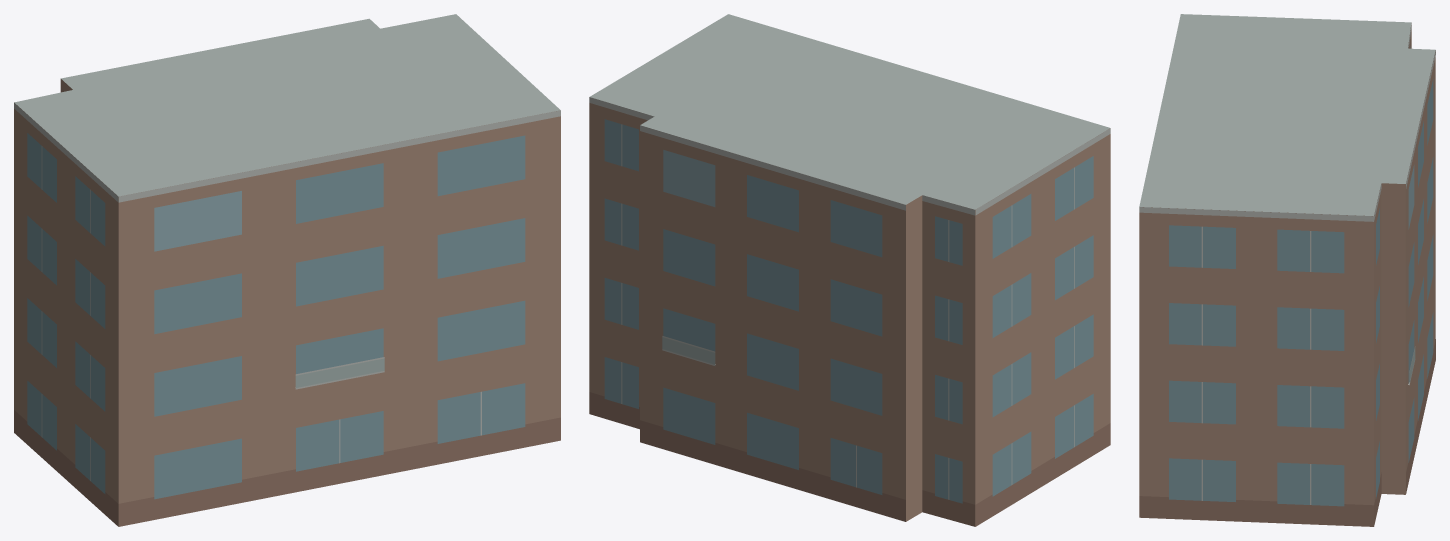
Rendered from survey-upis-32963435.glb.
3 renders of one model, left to right at view 1: azimuth 30°, elevation 25°; view 2: azimuth 150°, elevation 25°; view 3: azimuth 270°, elevation 25°, orthographic. The views are drawn at different scales.
Parts seen in each view (by area): view 1: survey-upis-32963435.tmp; view 2: survey-upis-32963435.tmp; view 3: survey-upis-32963435.tmp.
Part boxes in pixels (box(x1,y1,x2,y2)): survey-upis-32963435.tmp: box(14, 14, 560, 526); survey-upis-32963435.tmp: box(589, 14, 1110, 526); survey-upis-32963435.tmp: box(1139, 14, 1435, 526).
Size of the model in its own units: 18.49 by 13.25 by 11.47.
